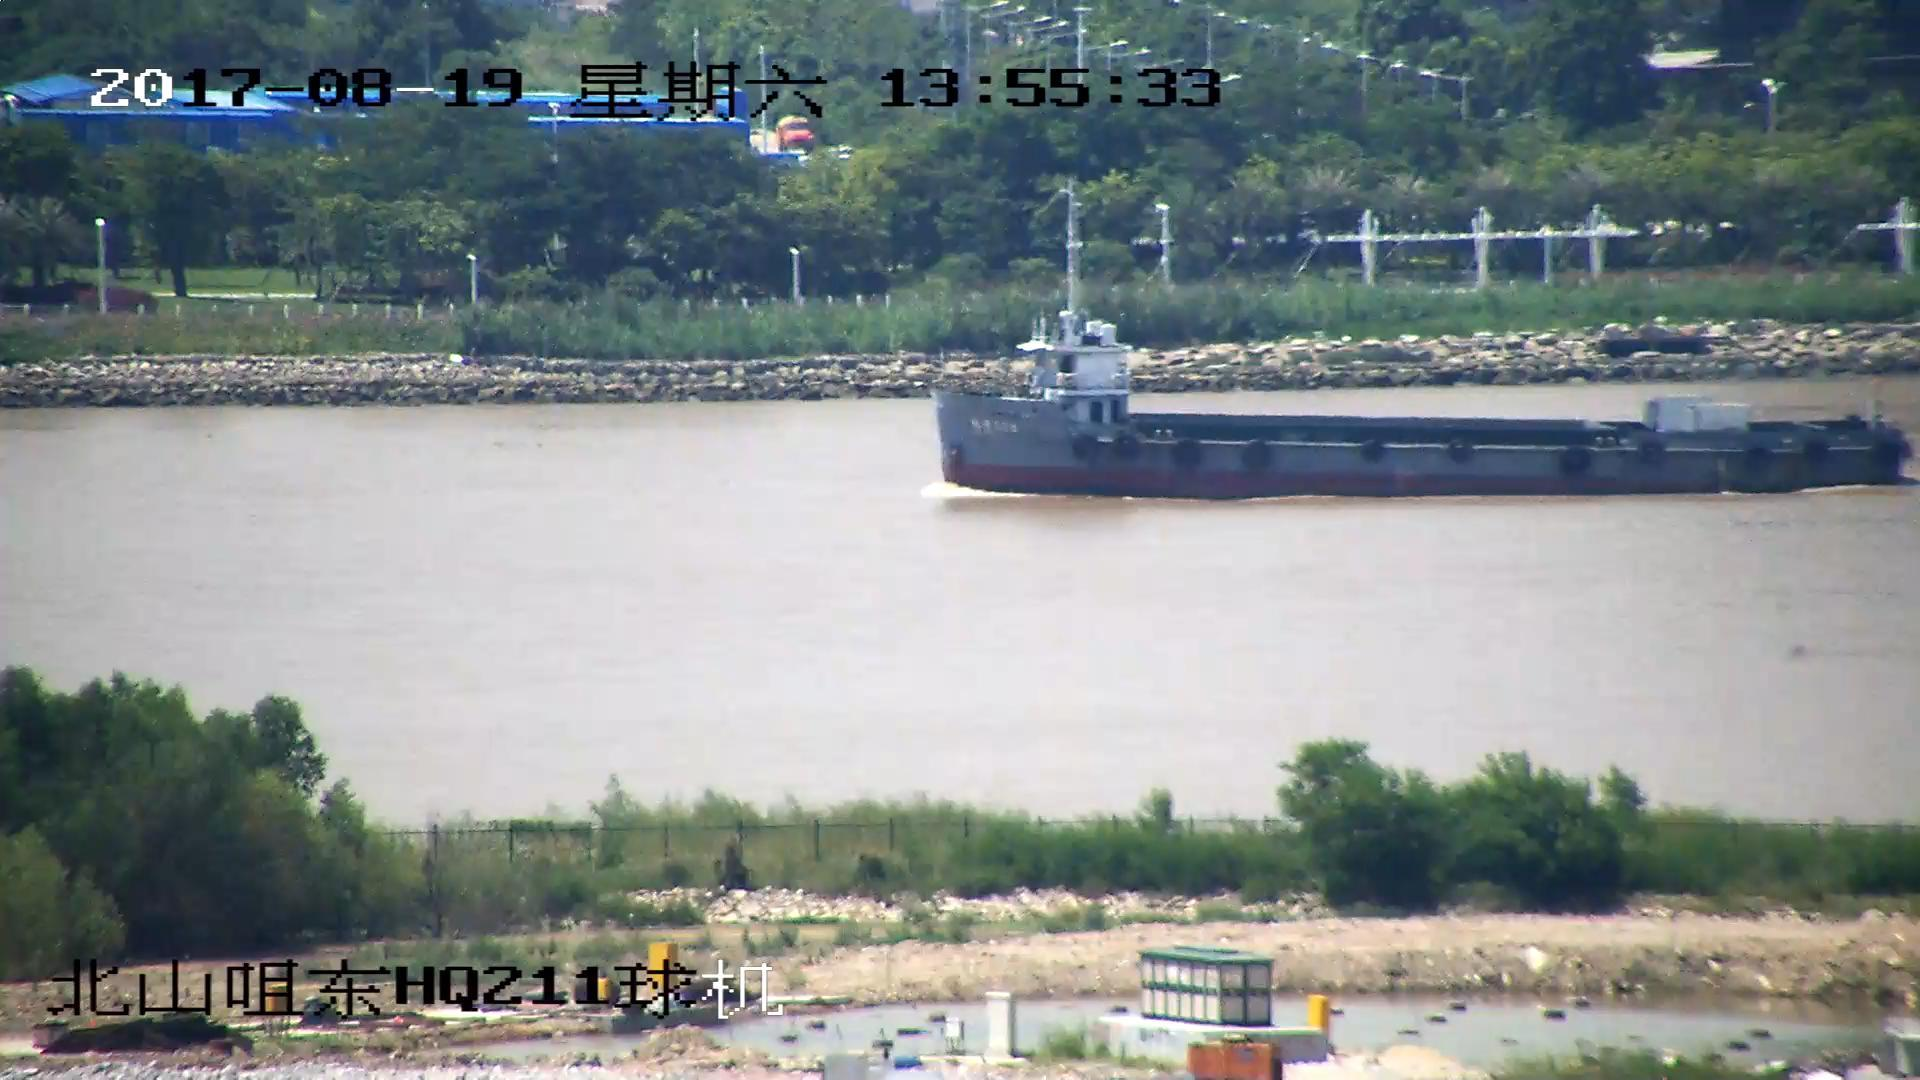Ship: (934, 316, 1911, 495)
